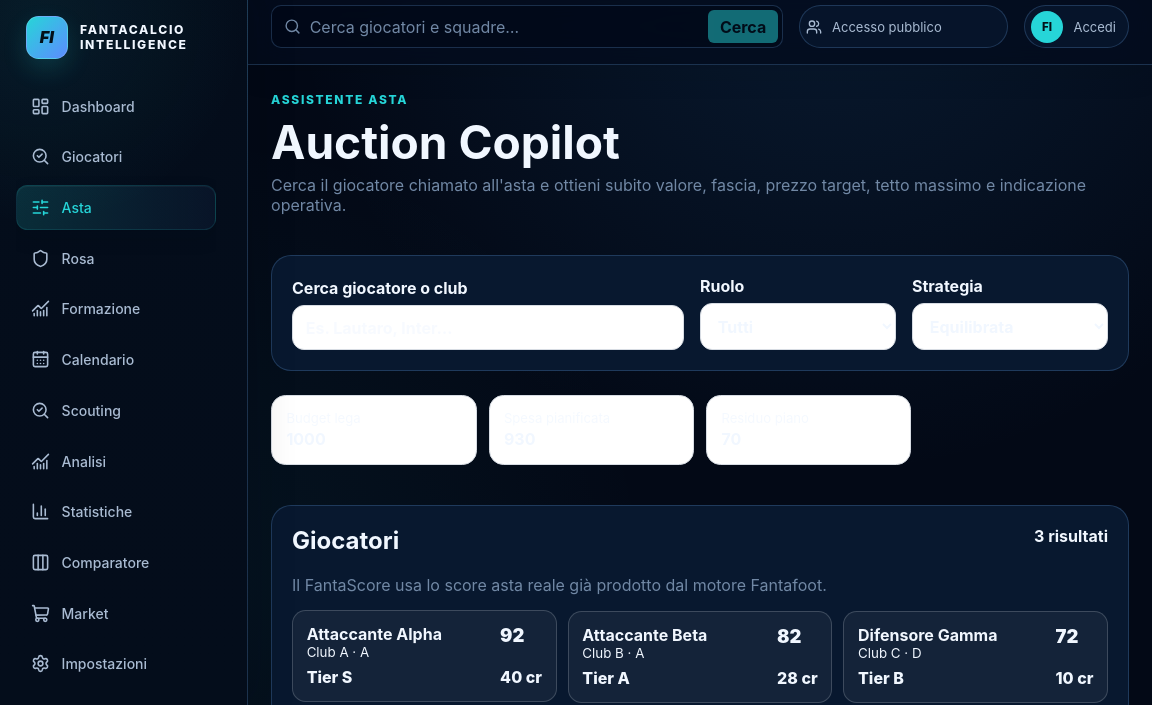
Test: M10 Auction Copilot › passa a STOP quando il prezzo supera il tetto massimo
The image size is (1152, 705).
Click the button "Attaccante Alpha Club A · A 92 Tier S 40 cr" at x=374, y=634, box [292,610,556,702]
(page scrolled)
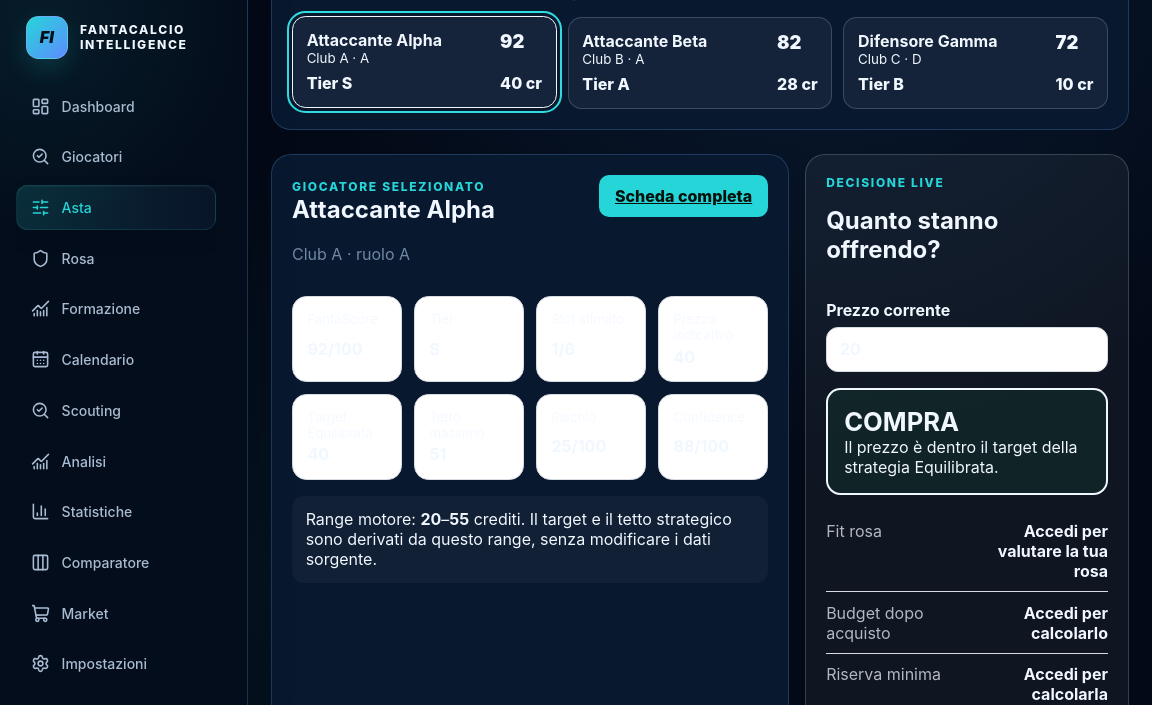
Replace the text in the number field named "Prezzo corrente asta" with "99" at x=967, y=349, box [826,327,1108,372]
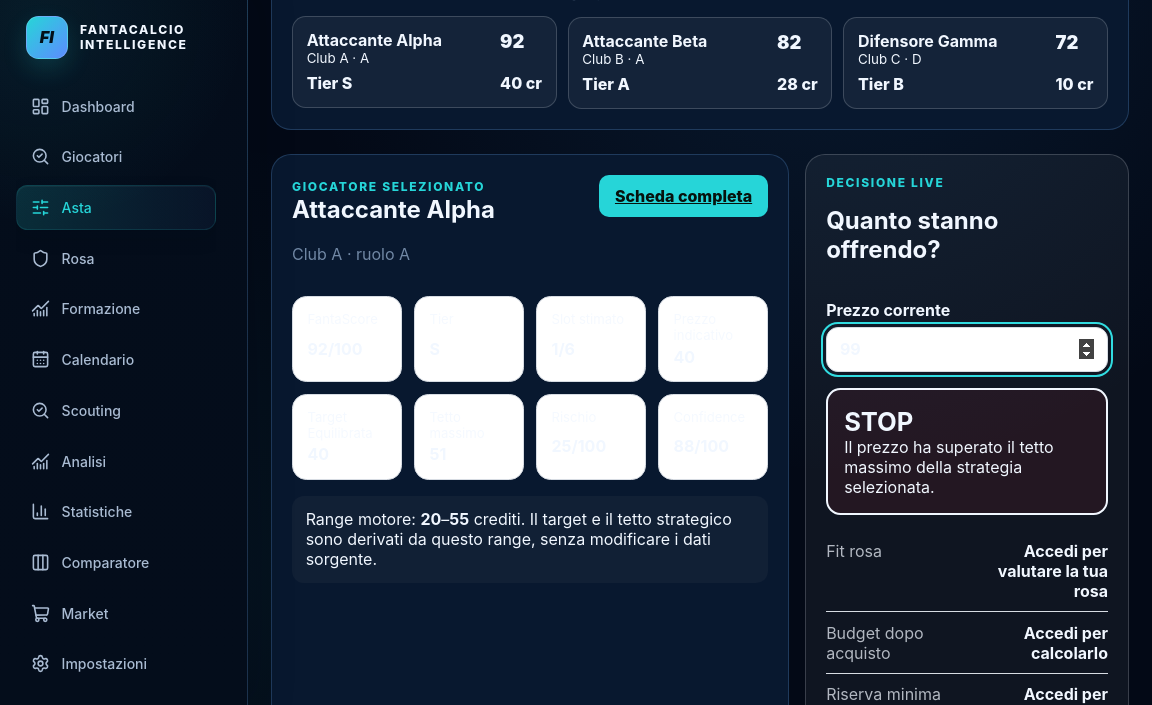
Result: the text "STOP" is shown at [844,406,913,436]
